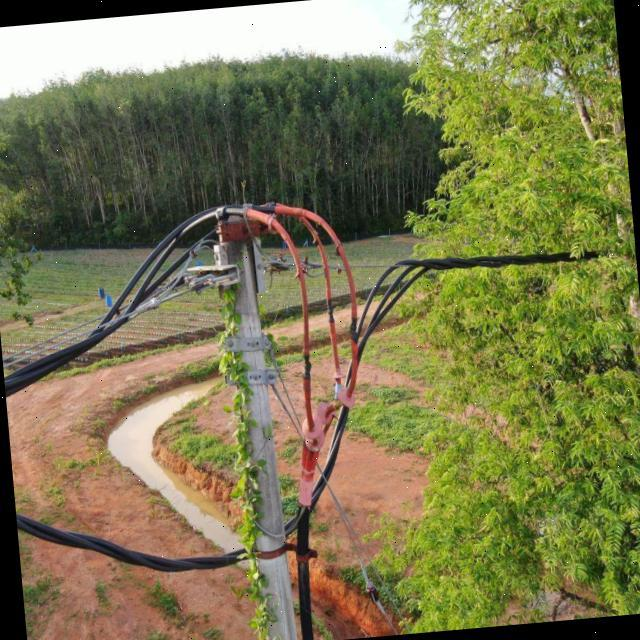critical vegetation: (198, 268, 308, 630)
